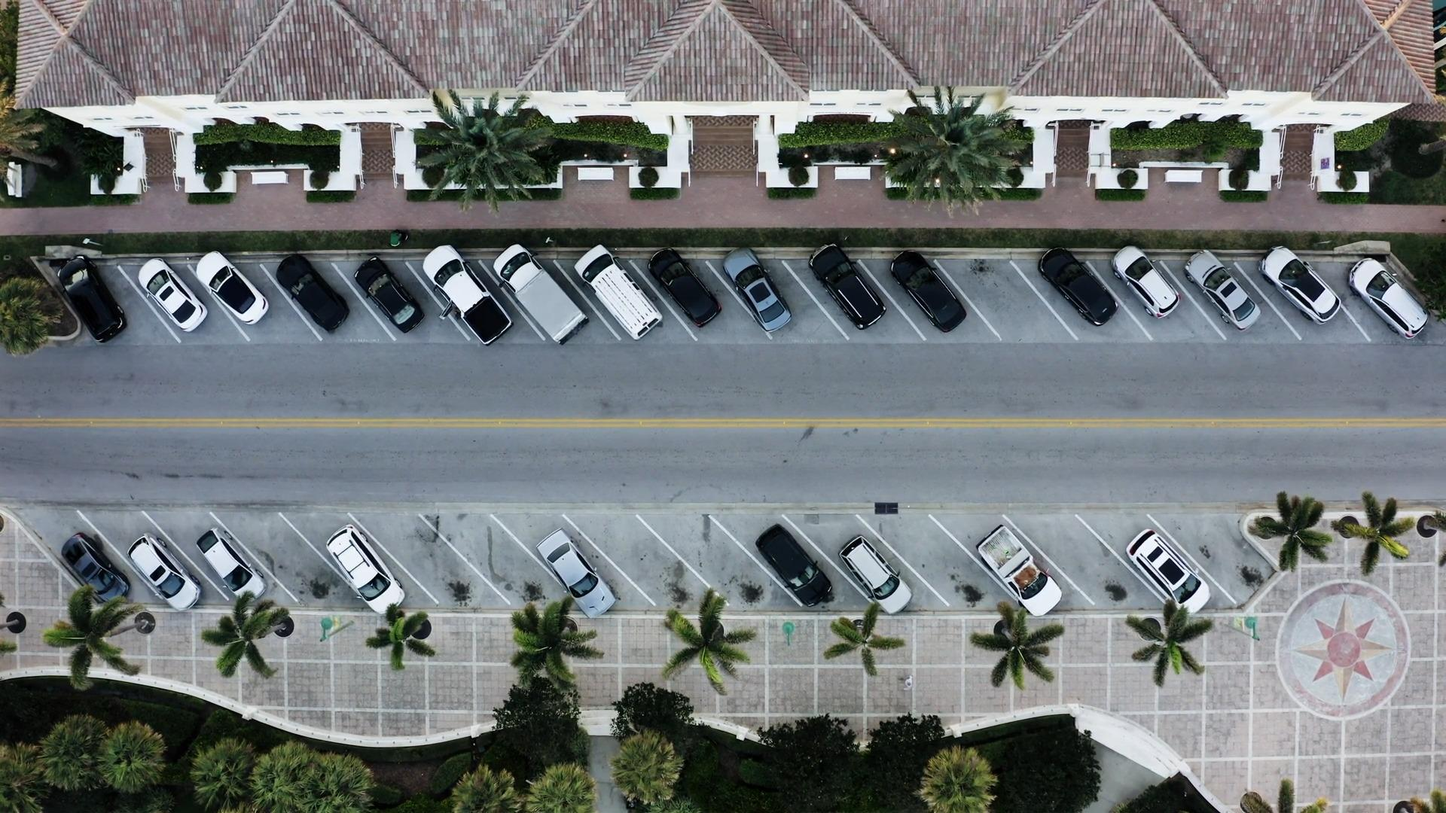free: (1059, 539, 1114, 592), (974, 267, 1028, 320), (707, 541, 761, 594), (488, 548, 542, 601), (263, 527, 317, 580), (626, 554, 681, 606), (1215, 530, 1269, 582), (912, 531, 966, 583), (435, 540, 489, 592)
occupied: (446, 238, 796, 350), (1242, 244, 1437, 341), (96, 524, 278, 616), (746, 523, 892, 617), (806, 242, 940, 336), (136, 249, 273, 337), (975, 522, 1057, 614), (325, 525, 406, 612), (1126, 529, 1209, 612), (536, 530, 614, 616), (1037, 248, 1115, 328), (53, 258, 126, 343), (59, 531, 131, 604), (1192, 254, 1261, 329), (355, 257, 423, 333), (284, 252, 352, 328), (1115, 246, 1182, 318), (1128, 529, 1160, 561)
